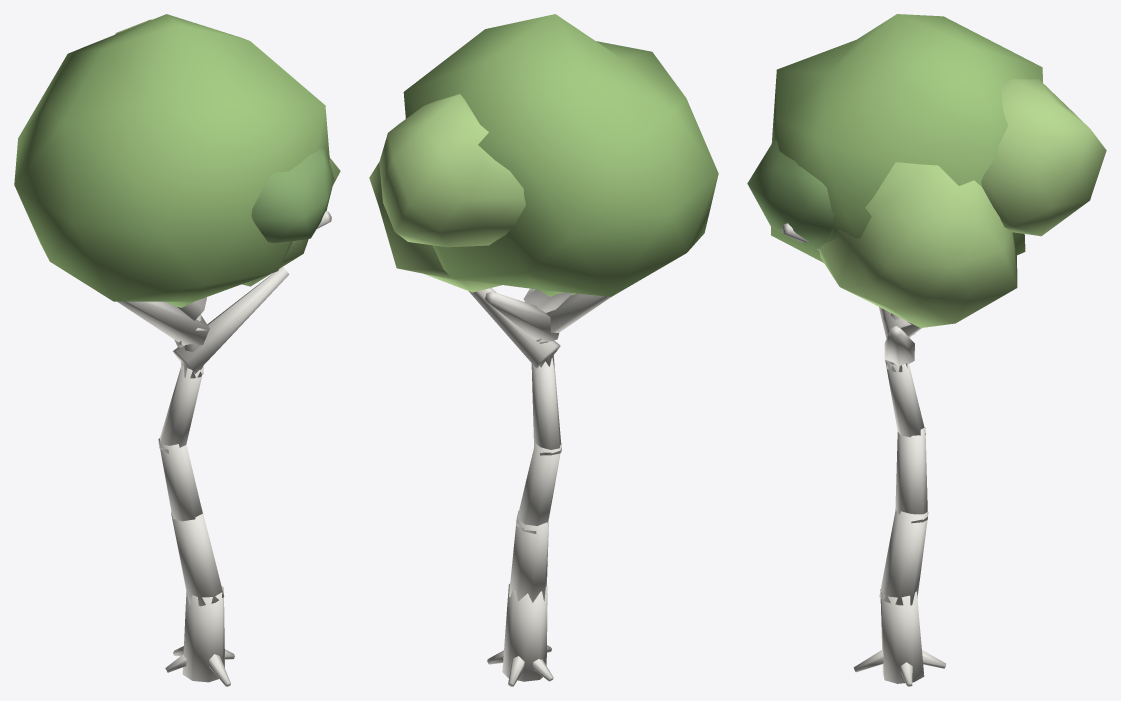
Rendered from tree_birch_natural.fbx.
3 views of the same model, side by side, from view 1: azimuth 30°, elevation 25°; view 2: azimuth 150°, elevation 25°; view 3: azimuth 270°, elevation 25° (orthographic). The views are drawn at different scales.
Visible parts, largest first — view 1: TreeBirch; view 2: TreeBirch; view 3: TreeBirch.
Part boxes in pixels (x1,y1,x2,y2): TreeBirch: [14, 14, 340, 686]; TreeBirch: [369, 14, 718, 686]; TreeBirch: [747, 14, 1106, 686].
Bounding box in the file's own units: 3.13 × 6.62 × 3.32.
